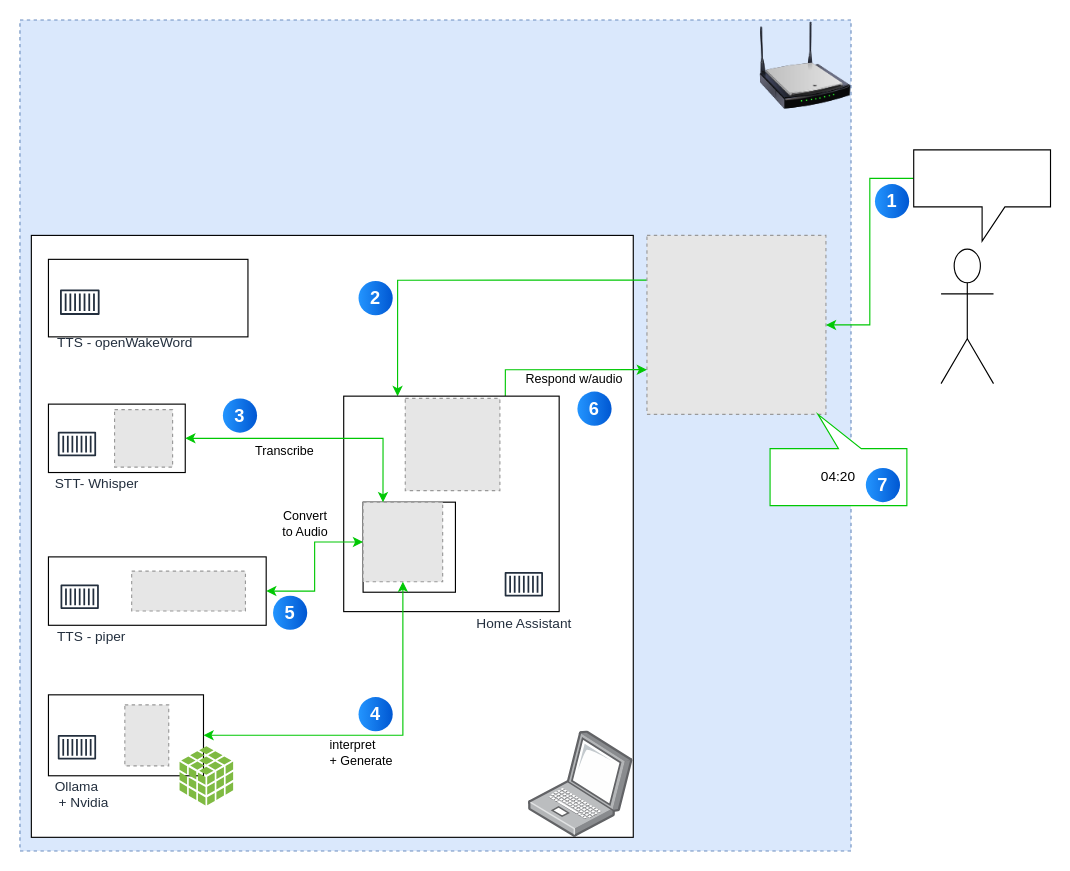
The diagram is 1070 pixels wide and 871 high, and some of its shapes have lost their labels. Grey dashed boxes stand in for pictures. Here are the shapes that lost their labels. From the top down, the centre of each, then its label:
At (x=982, y=195): "What time is it?".
At (x=967, y=316): "Actor".
At (x=206, y=775): "NVIDIA Card".
